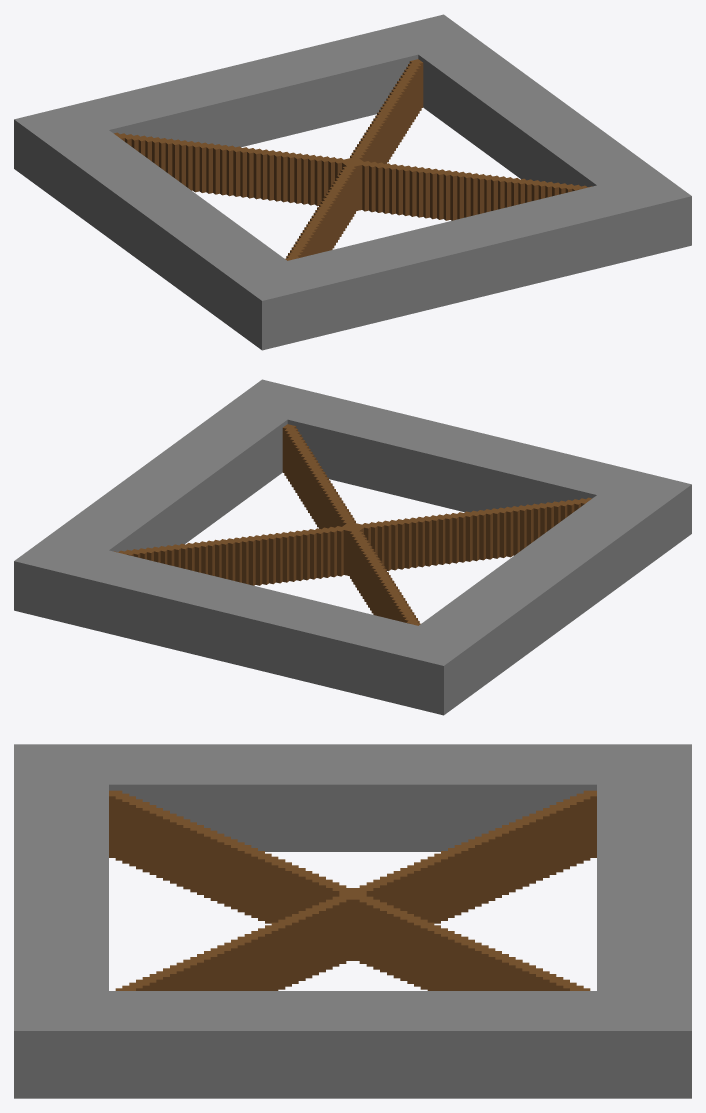
The model's file is underconstruction.obj.
3 renders of one model, top to bottom at view 1: azimuth 30°, elevation 25°; view 2: azimuth 150°, elevation 25°; view 3: azimuth 270°, elevation 25°, orthographic. The views are drawn at different scales.
Bounding box in the file's own units: 10 × 1.1 × 10.
Materials: 1 (1 with a texture image).
